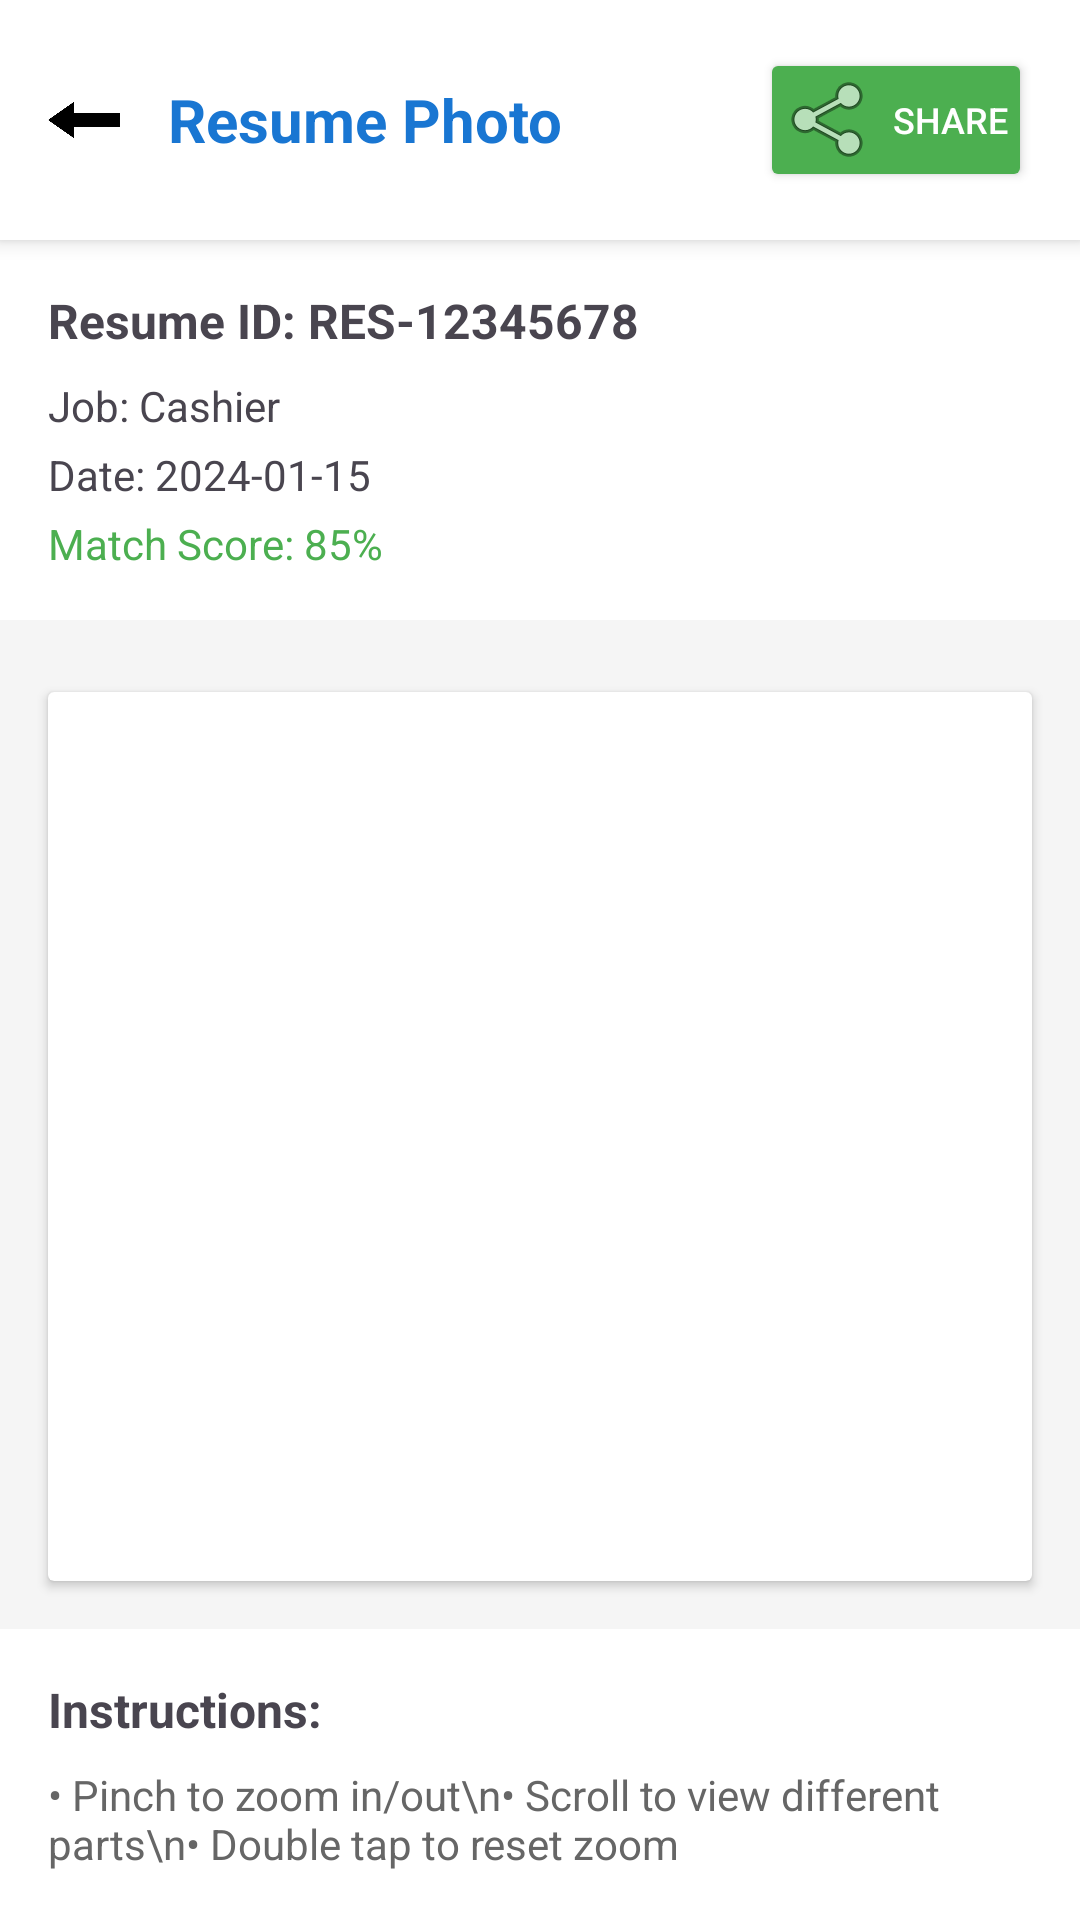

Icons on this 1080px x 1920px Android screen, each with its box as {"left": x1, "top": y1, "right": x2, "bottom": y2}:
back arrow: {"left": 49, "top": 102, "right": 120, "bottom": 138}
